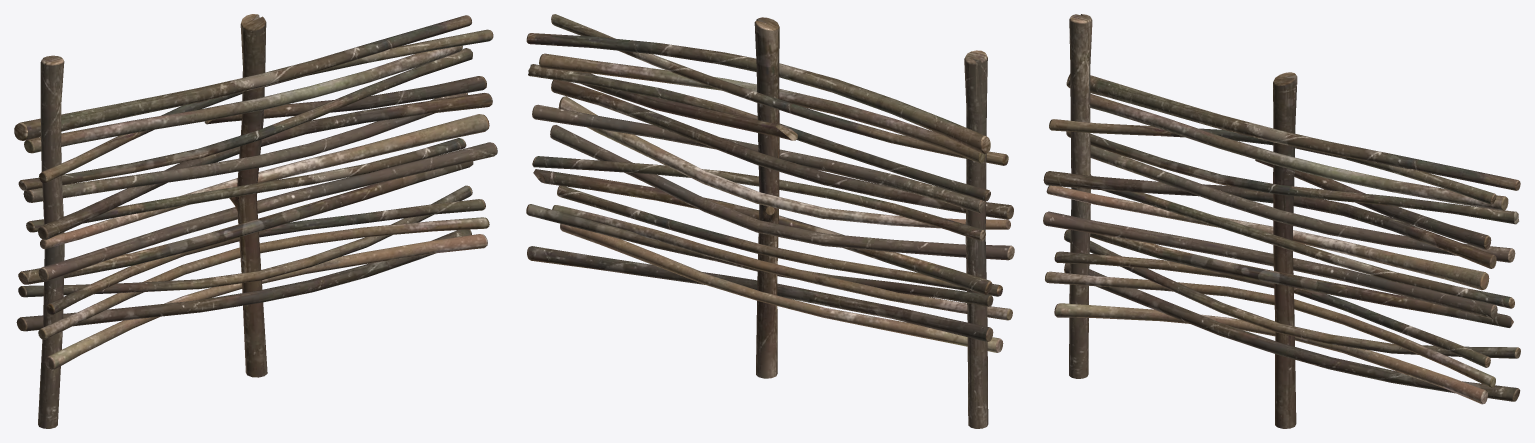
The picture shows the model from 3 angles, left to right: view 1: azimuth 30°, elevation 25°; view 2: azimuth 150°, elevation 25°; view 3: azimuth 330°, elevation 25°; orthographic projection. The views are drawn at different scales.
Visible parts, largest first — view 1: SM_Wicker_Fence_01v3_LOD0; view 2: SM_Wicker_Fence_01v3_LOD0; view 3: SM_Wicker_Fence_01v3_LOD0.
Part boxes in pixels (x1,y1,x2,y2): SM_Wicker_Fence_01v3_LOD0: [14, 14, 497, 428]; SM_Wicker_Fence_01v3_LOD0: [526, 14, 1014, 428]; SM_Wicker_Fence_01v3_LOD0: [1043, 14, 1520, 428].
Size of the model in its own units: 2 by 1.54 by 0.2679.
1 material, 1 textured.
